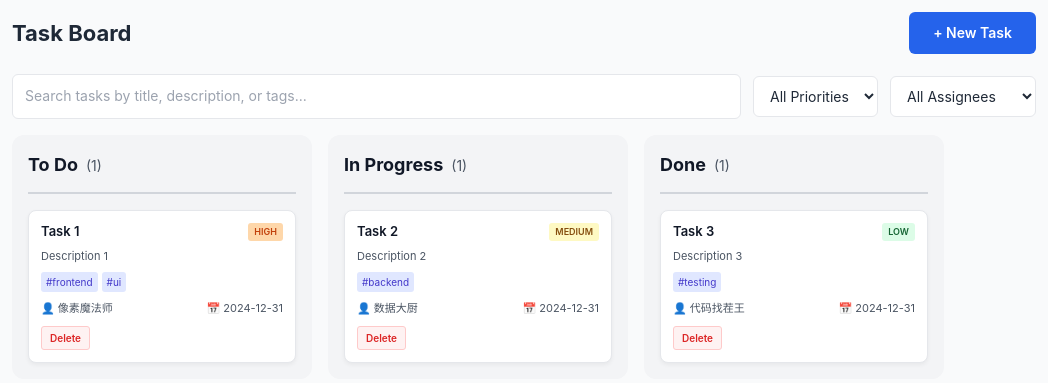
it: TasksView › should show Clear Filters button when filters are active
Type "test" into the field with placeholder "Search tasks by title, description, or tags..." at (376, 97), box [12,74,741,119]
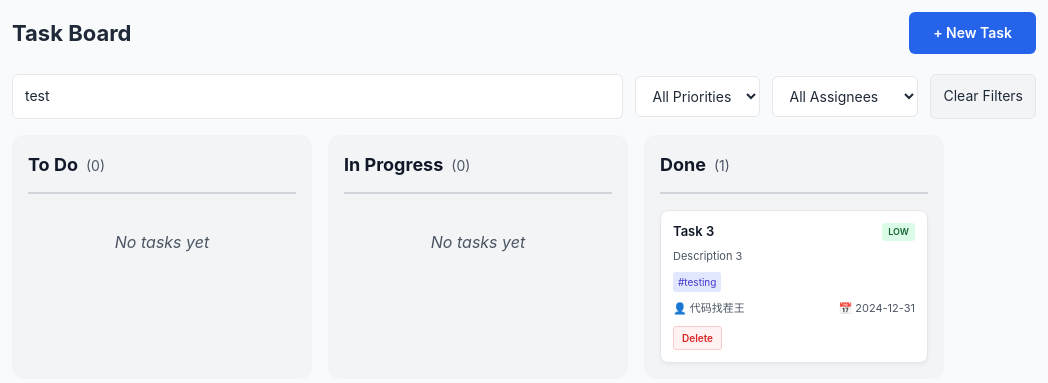
Result: the button "Clear Filters" is shown at [930,74,1036,119]
